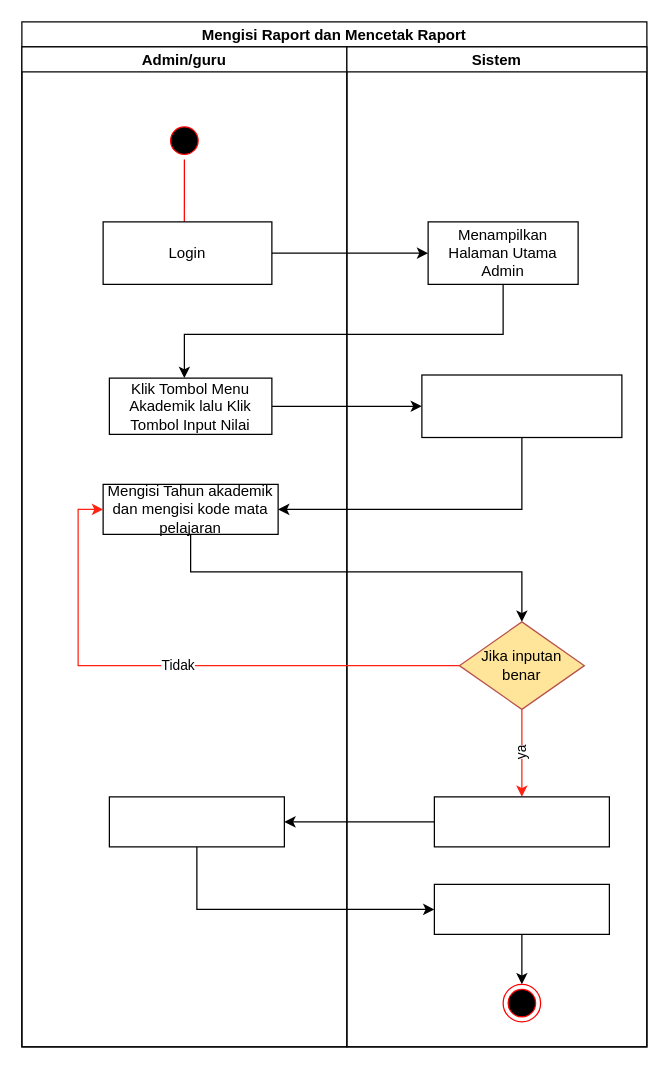
Image size: 669x1069. Some labels were removed from this diagram. Here are the shapes that lost their labels. From the top down, the centre of each, then its label:
the point at 521,406: Menampilkan halaman input nilai
the point at 196,821: Mengisi Nilai Raport dan Klik tombol simpan
the point at 521,821: Menampilkan inputan raport sesuai dengan mata pelajaran
the point at 521,908: Menyimpan nilai
